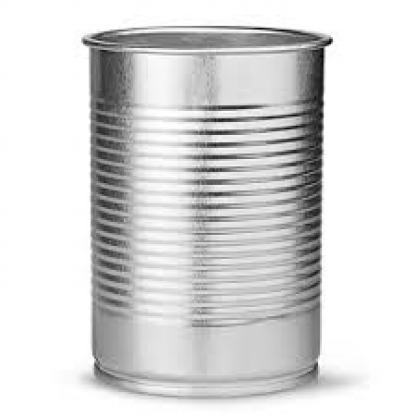METAL: (81, 26, 333, 396)
